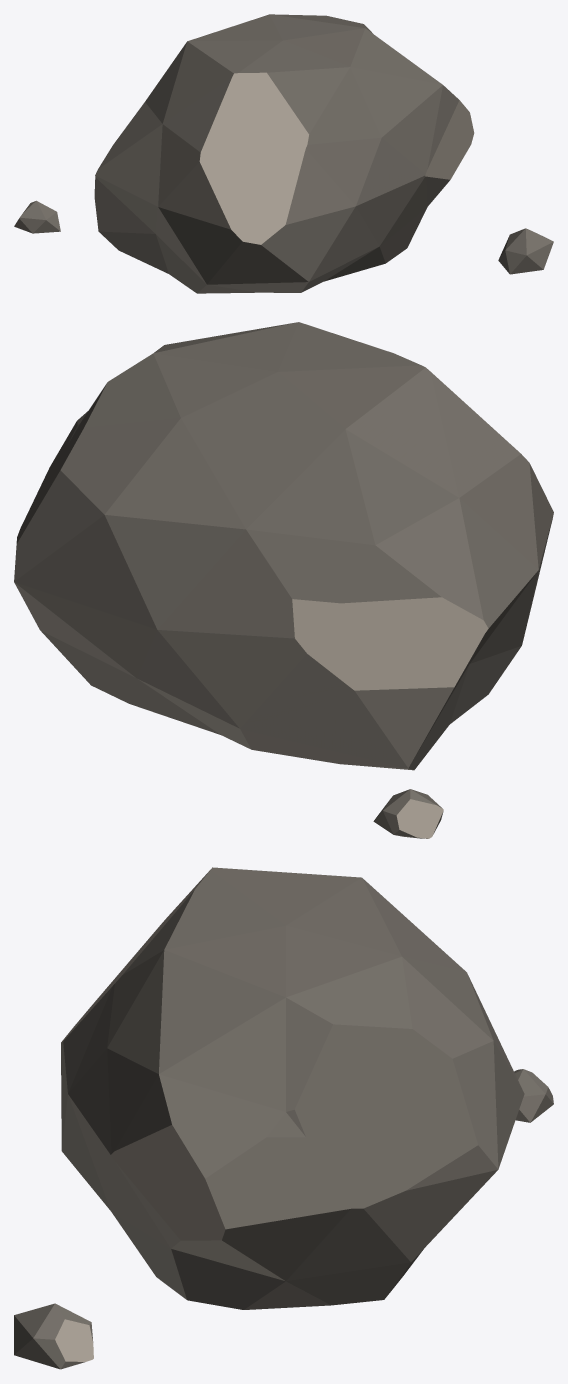
File: it-boulder.glb
The picture shows the model from 3 angles, top to bottom: view 1: azimuth 30°, elevation 25°; view 2: azimuth 150°, elevation 25°; view 3: azimuth 270°, elevation 25°; orthographic projection. The views are drawn at different scales.
Parts seen in each view (by area): view 1: boulder, chip_01, chip_02; view 2: boulder, chip_02; view 3: boulder, chip_01, chip_02.
Part boxes in pixels (left/top/right/bottom): boulder: left=94, top=14, right=474, bottom=293; chip_01: left=498, top=228, right=553, bottom=274; chip_02: left=14, top=200, right=60, bottom=233; boulder: left=14, top=322, right=553, bottom=770; chip_02: left=373, top=789, right=443, bottom=838; boulder: left=61, top=867, right=524, bottom=1309; chip_01: left=14, top=1303, right=93, bottom=1369; chip_02: left=514, top=1069, right=553, bottom=1122.
Size of what is drawn, in the model's own units: 0.4054 by 0.2138 by 0.3347.
